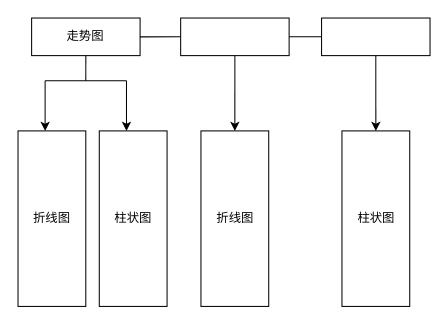
This 448x325 diagram has some shape labels left out. Each missing label, with the box of its shape:
分析: (321, 17, 430, 56)
成交额: (180, 17, 289, 56)
